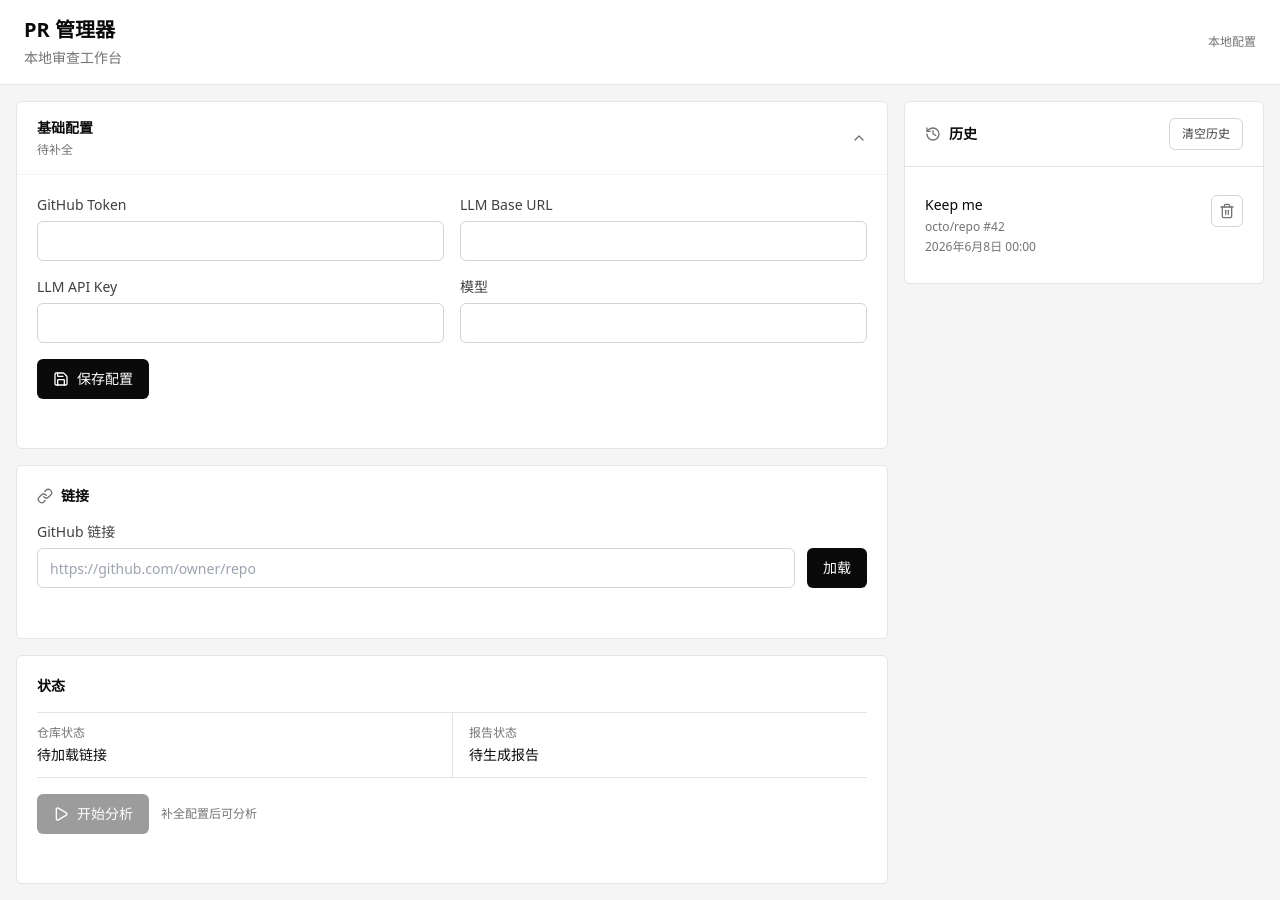
dashboard shell › shows a Chinese error when deleting a history record fails
Check: the text "Keep me" is shown, box [925, 195, 983, 214]
What coordinates should you click on to do the following:
click the button named "删除 octo/repo #42 Keep me"
I would click on:
 (1227, 211)
Its box is [1211, 195, 1243, 227].
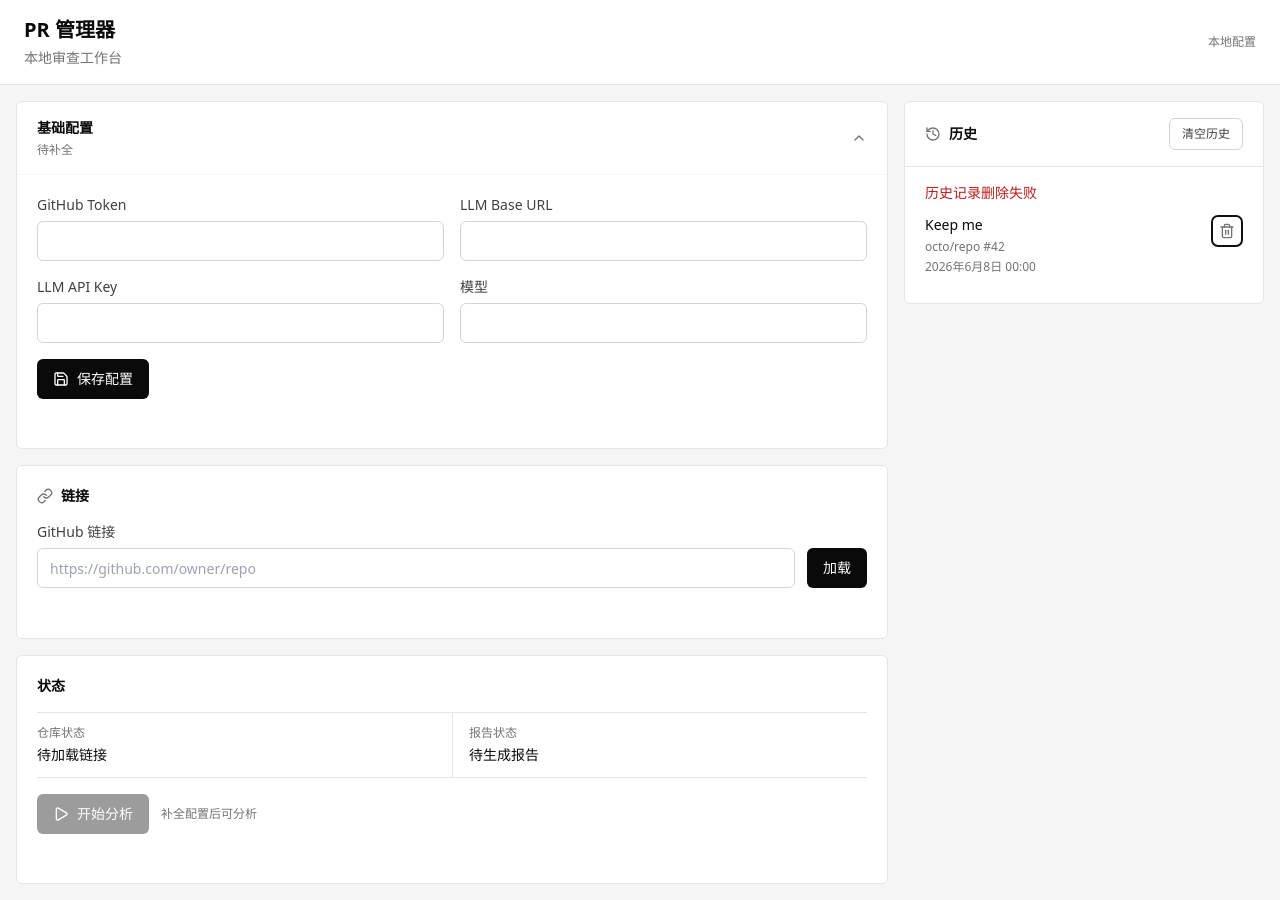
Check: the text "Keep me" is shown, box [925, 215, 983, 234]
Check: the message reads "历史记录删除失败", box [925, 183, 1037, 202]
